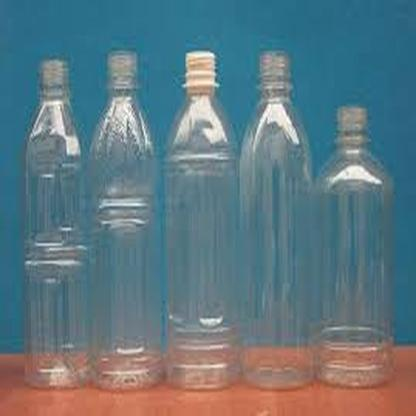plastic bottle: (163, 51, 242, 387), (241, 48, 315, 388), (91, 45, 159, 387), (25, 54, 93, 389), (316, 105, 395, 387)
